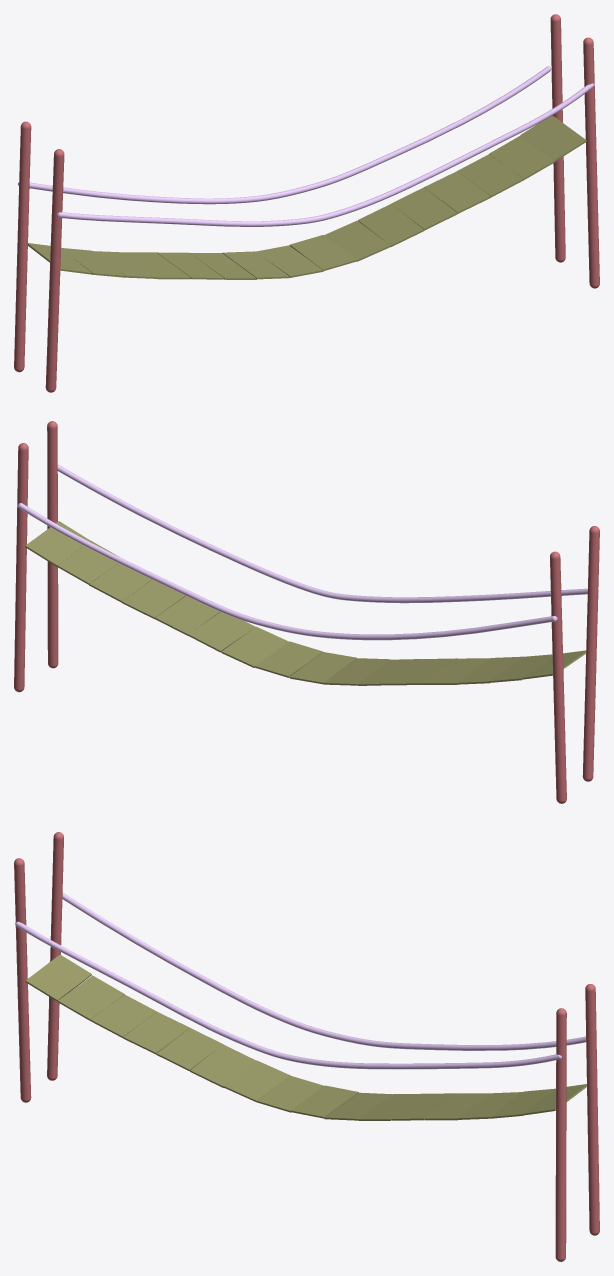
Rendered from bridgeSus.fbx.
The picture shows the model from 3 angles, top to bottom: view 1: azimuth 30°, elevation 25°; view 2: azimuth 150°, elevation 25°; view 3: azimuth 330°, elevation 25°; orthographic projection.
Visible parts, largest first — view 1: s.0061, s.0060, p.0052, p.0054, p.0053, p.0051, p.0021, p.0022, s.0036, p.0023, s.0038, s.0034 (+10 smaller); view 2: s.0060, s.0061, p.0053, p.0052, p.0051, p.0054, s.0036, p.0027, s.0038, p.0021, s.0034, p.0020 (+10 smaller); view 3: s.0061, s.0060, p.0054, p.0051, p.0053, p.0052, p.0041, p.0042, p.0040, s.0039, s.0035, s.0037 (+10 smaller).
Boxes of the visible parts, box(x1,y1,x2,y2) form: s.0061: box(56, 83, 594, 226); s.0060: box(18, 66, 551, 204); p.0052: box(14, 121, 31, 372); p.0054: box(583, 37, 599, 288); p.0053: box(45, 149, 64, 392); p.0051: box(550, 14, 565, 262); p.0021: box(521, 115, 586, 160); p.0022: box(489, 135, 555, 179); s.0036: box(358, 204, 424, 246); p.0023: box(457, 154, 523, 197); s.0038: box(391, 187, 457, 230); s.0034: box(424, 171, 490, 213); s.0060: box(17, 503, 557, 640); s.0061: box(57, 464, 598, 603); p.0053: box(582, 526, 599, 781); p.0052: box(550, 551, 566, 803); p.0051: box(14, 443, 28, 692); p.0054: box(47, 421, 58, 668); s.0036: box(188, 612, 255, 652); p.0027: box(221, 626, 288, 667); s.0038: box(155, 596, 220, 635); p.0021: box(25, 521, 90, 566); s.0034: box(121, 579, 185, 618); p.0020: box(255, 641, 322, 677); s.0061: box(15, 921, 561, 1069); s.0060: box(62, 893, 586, 1050); p.0054: box(555, 1008, 566, 1261); p.0051: box(585, 984, 599, 1235); p.0053: box(14, 858, 31, 1102); p.0052: box(47, 832, 63, 1080); p.0041: box(25, 954, 91, 1001); p.0042: box(57, 975, 124, 1020); p.0040: box(90, 994, 156, 1037); s.0039: box(156, 1028, 223, 1071); s.0035: box(123, 1011, 189, 1054); s.0037: box(190, 1044, 256, 1087).
Bounding box in the file's own units: 11.87 × 1.69 × 5.59.
